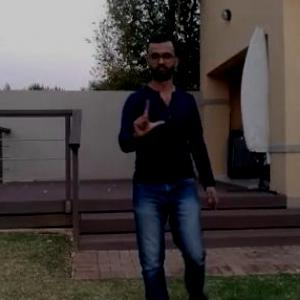land_hand: (125, 88, 170, 143)
